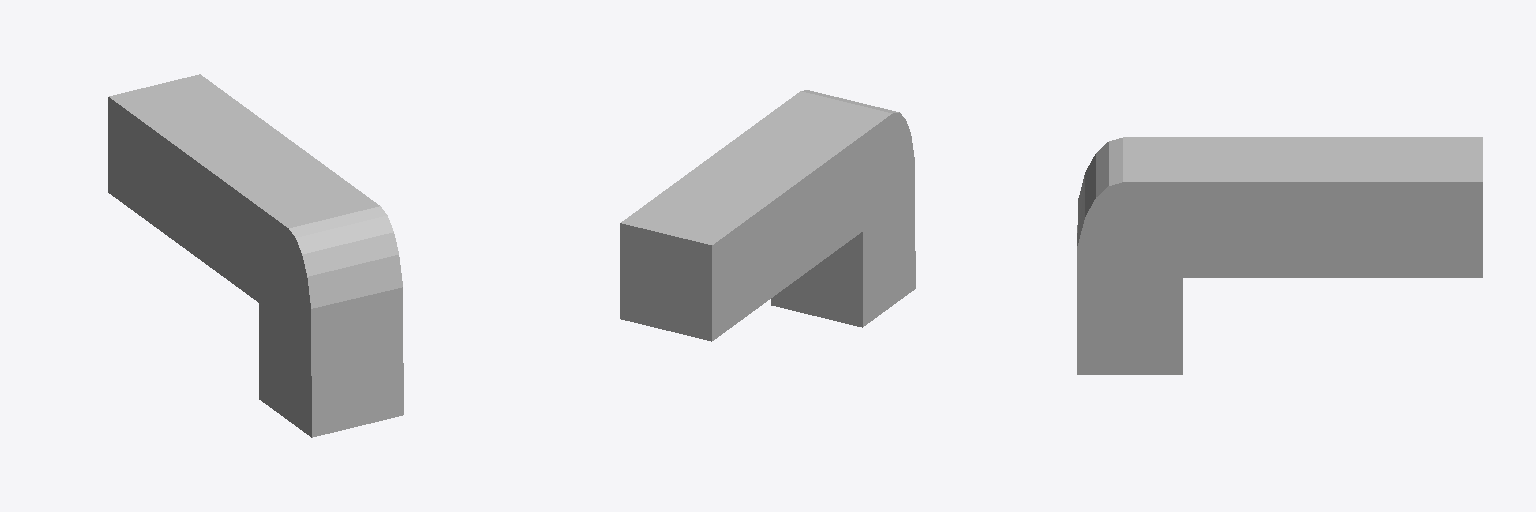
The model's file is port.obj.
The picture shows the model from 3 angles: view 1: azimuth 30°, elevation 25°; view 2: azimuth 150°, elevation 25°; view 3: azimuth 270°, elevation 25°; orthographic projection.
Parts seen in each view (by area): view 1: 立方体.002; view 2: 立方体.002; view 3: 立方体.002.
Part boxes in pixels (left/top/right/bottom): 立方体.002: left=108, top=74, right=403, bottom=437; 立方体.002: left=620, top=90, right=915, bottom=341; 立方体.002: left=1077, top=137, right=1482, bottom=374.
Bounding box in the file's own units: 0.04 × 0.08 × 0.1534.